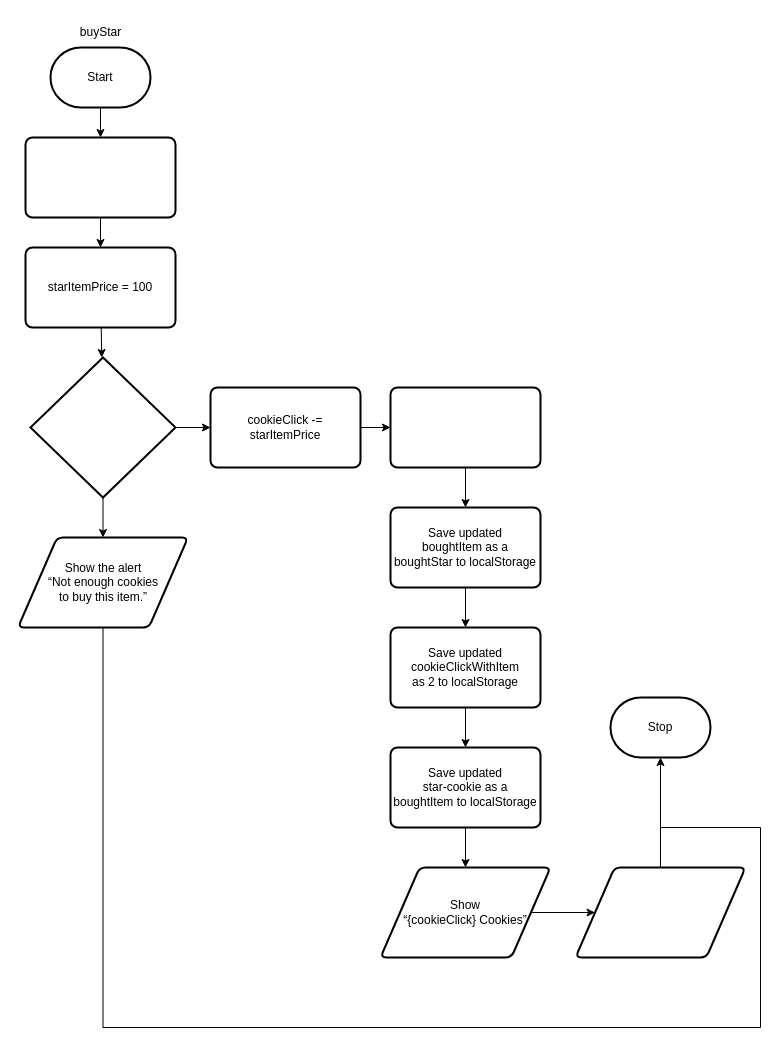
Image size: 779x1046. Some labels were removed from this diagram. Each missing label, with the box of its shape:
Get cookieClick from the localStorage: (24, 136, 176, 218)
If (cookieClick >= starItemPrice): (29, 356, 176, 498)
Save updated cookieClick to the localStorage: (389, 386, 541, 468)
Show the alert “You bought the Star Cookie!”: (574, 866, 746, 958)
